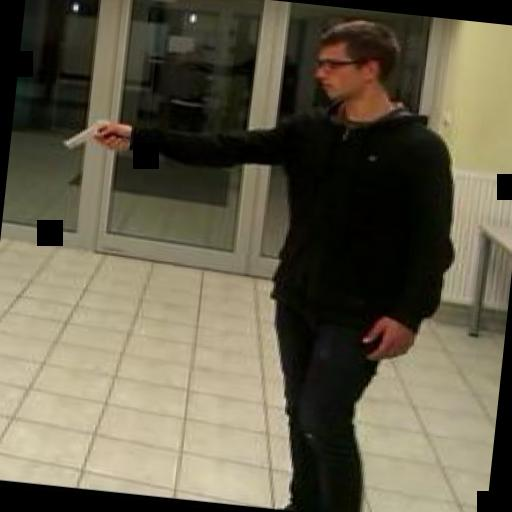Handgun: (59, 112, 125, 154)
